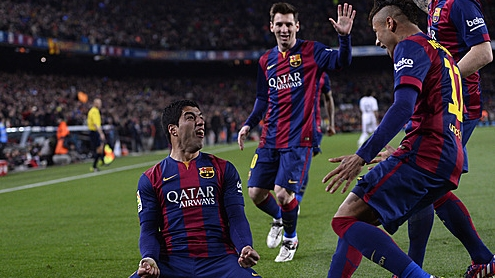barcelona: (231, 4, 357, 270), (333, 7, 454, 278), (110, 95, 261, 278), (416, 1, 493, 274)
realmadrid: (352, 86, 384, 152)
